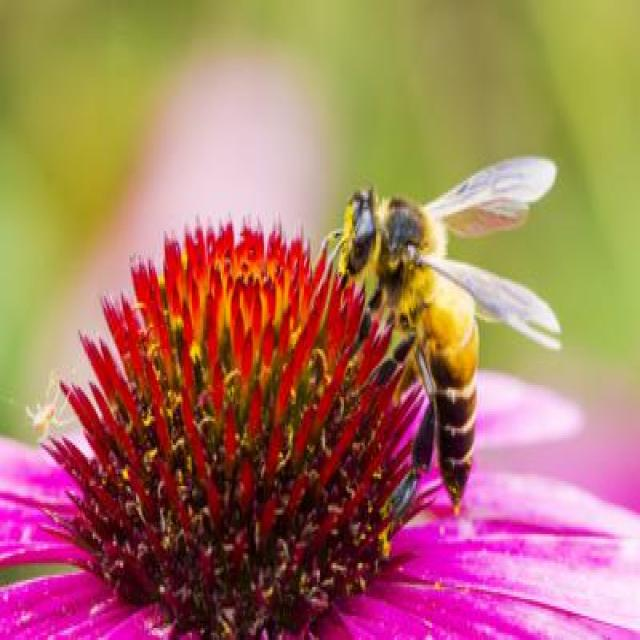antennae: (317, 232, 348, 292), (318, 223, 343, 260)
body: (343, 193, 479, 523)
insect: (318, 155, 570, 554)
legs: (376, 344, 436, 533), (339, 274, 390, 374), (363, 327, 418, 390)
mouthpart: (334, 268, 351, 290)
wings: (413, 248, 562, 356), (419, 157, 557, 238)
